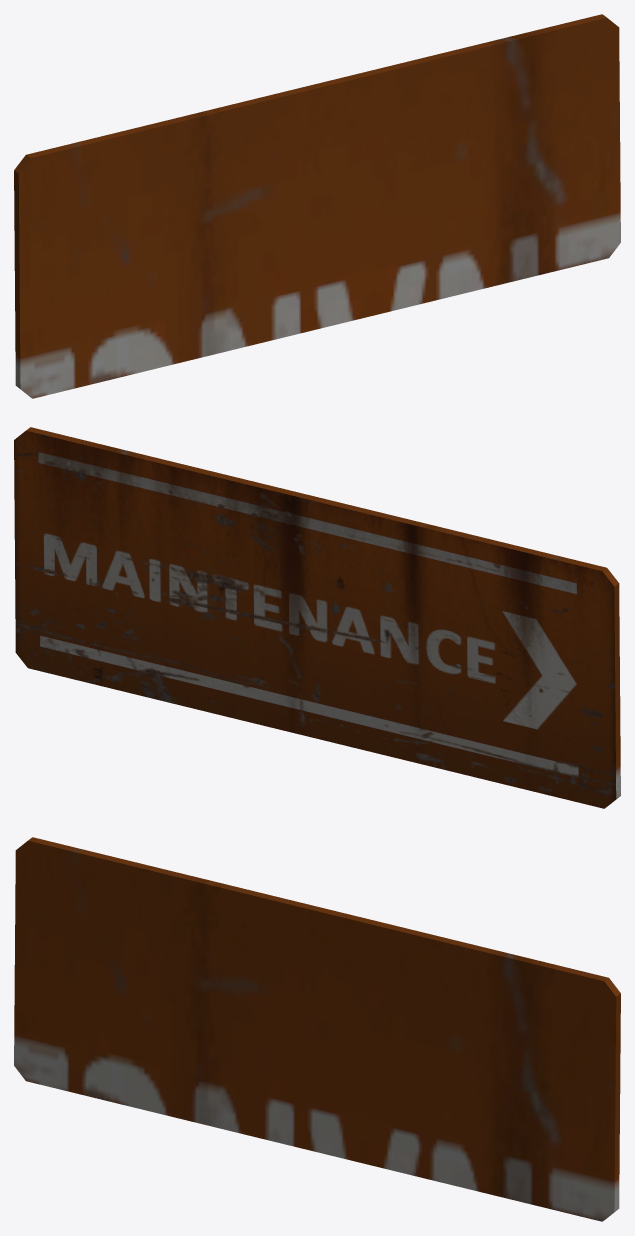
The model's file is sign_upsilon_maintenance_room_single.DAE.
3 renders of one model, top to bottom at view 1: azimuth 30°, elevation 25°; view 2: azimuth 150°, elevation 25°; view 3: azimuth 330°, elevation 25°, orthographic.
Parts seen in each view (by area): view 1: sign; view 2: sign; view 3: sign.
Part boxes in pixels (bbox=[...]): sign: bbox=[14, 14, 620, 398]; sign: bbox=[14, 427, 620, 808]; sign: bbox=[14, 837, 620, 1221].
Size of the model in its own units: 2 by 0.7609 by 0.039.
